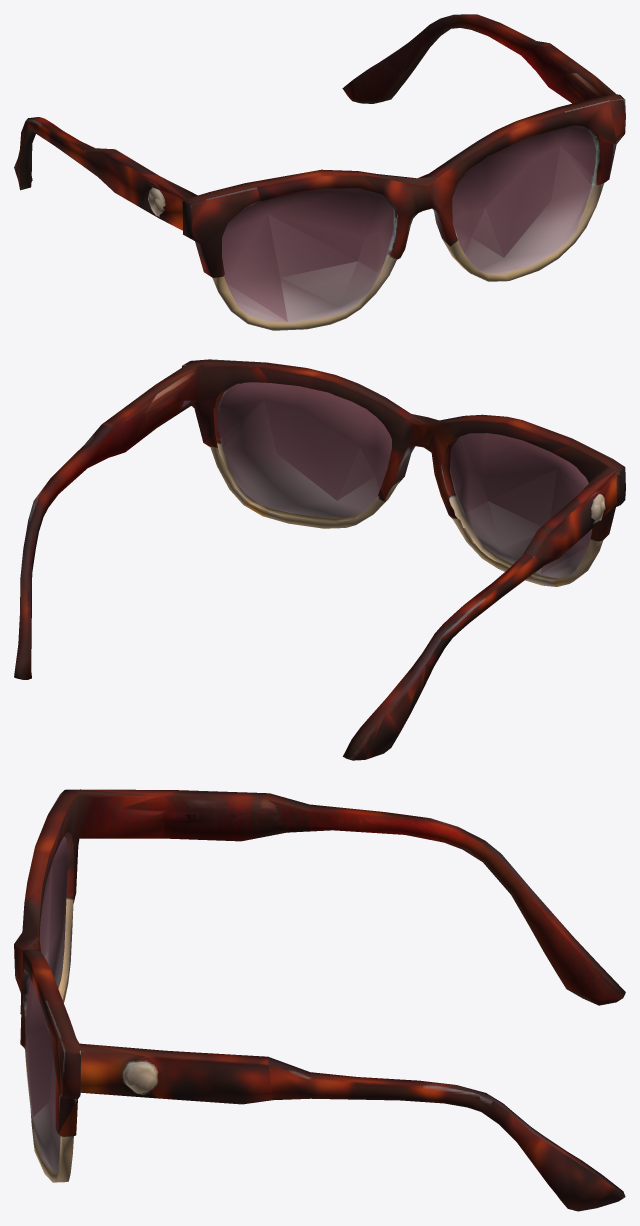
File: WorldItem_AZ_Sunglasses1.fbx
3 renders of one model, top to bottom at view 1: azimuth 30°, elevation 25°; view 2: azimuth 150°, elevation 25°; view 3: azimuth 270°, elevation 25°, orthographic. The views are drawn at different scales.
Parts seen in each view (by area): view 1: AZ_SummerShades; view 2: AZ_SummerShades; view 3: AZ_SummerShades.
Part boxes in pixels (box(x1,y1,x2,y2)): AZ_SummerShades: box(14, 14, 625, 330); AZ_SummerShades: box(14, 359, 625, 760); AZ_SummerShades: box(14, 789, 625, 1211).
Bounding box in the file's own units: 11.43 × 3.81 × 10.78.
